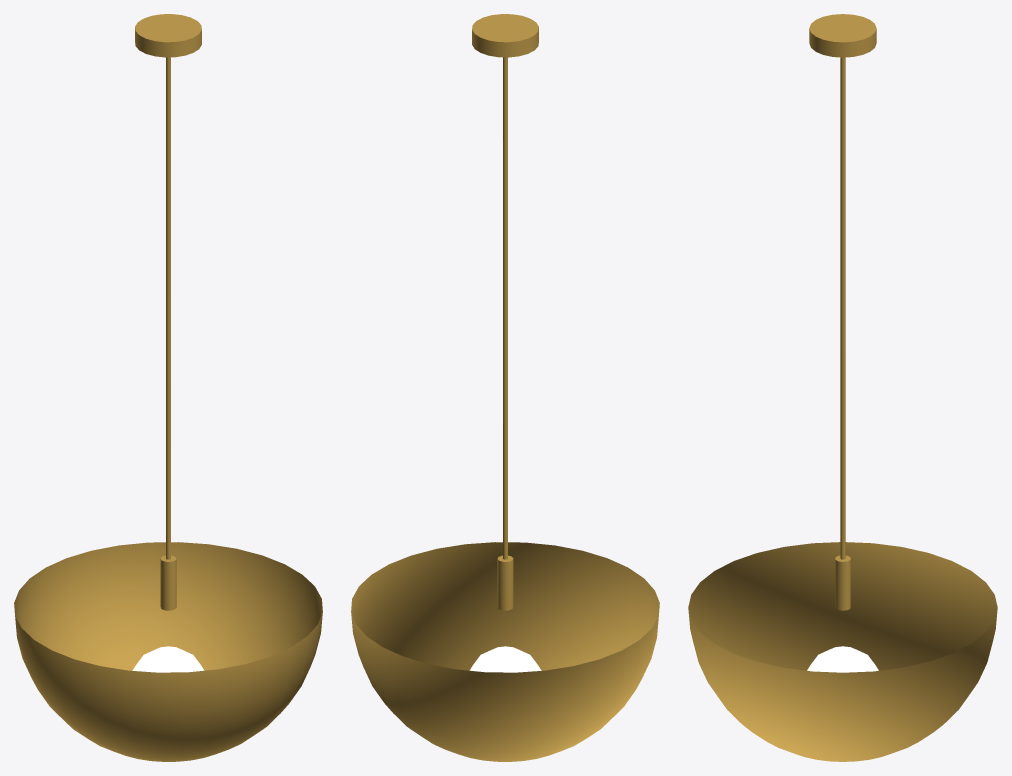
The model's file is dome_pendant.glb.
The picture shows the model from 3 angles, left to right: view 1: azimuth 30°, elevation 25°; view 2: azimuth 150°, elevation 25°; view 3: azimuth 270°, elevation 25°; orthographic projection.
Visible parts, largest first — view 1: dome_pendant; view 2: dome_pendant; view 3: dome_pendant.
Boxes of the visible parts, x1,y1,x2,y2 form: dome_pendant: [14, 14, 322, 761]; dome_pendant: [351, 14, 659, 761]; dome_pendant: [688, 14, 997, 761].
Bounding box in the file's own units: 0.46 × 1.18 × 0.46.
